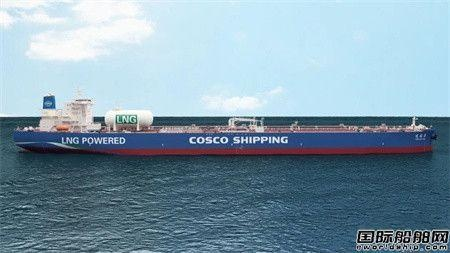Cargoship: (12, 85, 441, 158)
